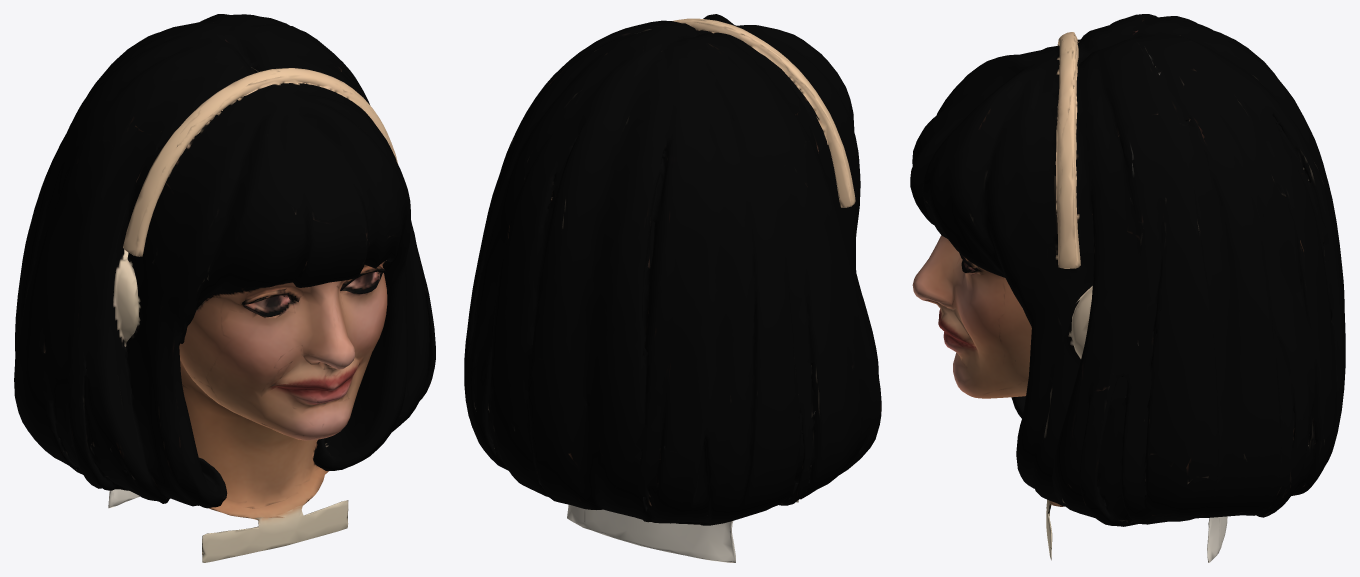
3 renders of one model, left to right at view 1: azimuth 30°, elevation 25°; view 2: azimuth 150°, elevation 25°; view 3: azimuth 270°, elevation 25°, orthographic. The views are drawn at different scales.
Size of the model in its own units: 0.7998 by 0.9988 by 0.7965.
Materials: 1 (1 with a texture image).
